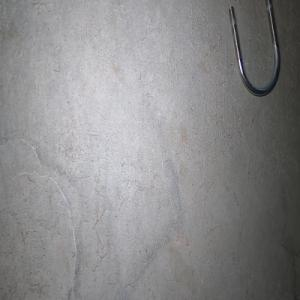ClampPart: (228, 0, 281, 97)
